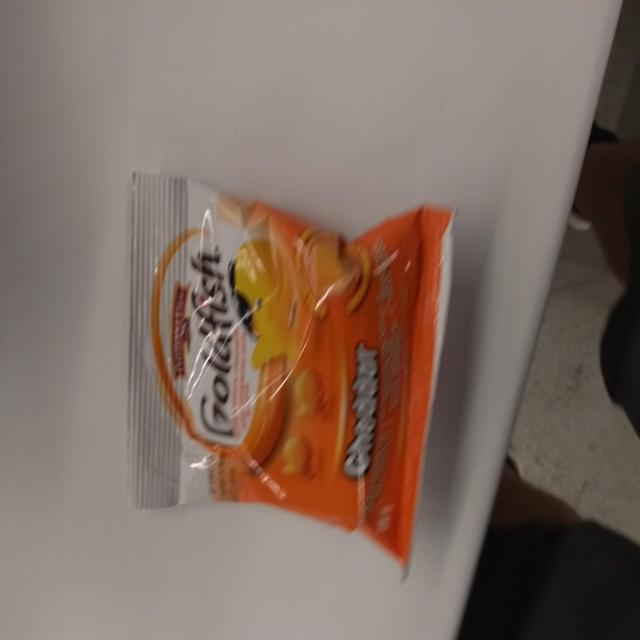crackers: (123, 163, 459, 589)
